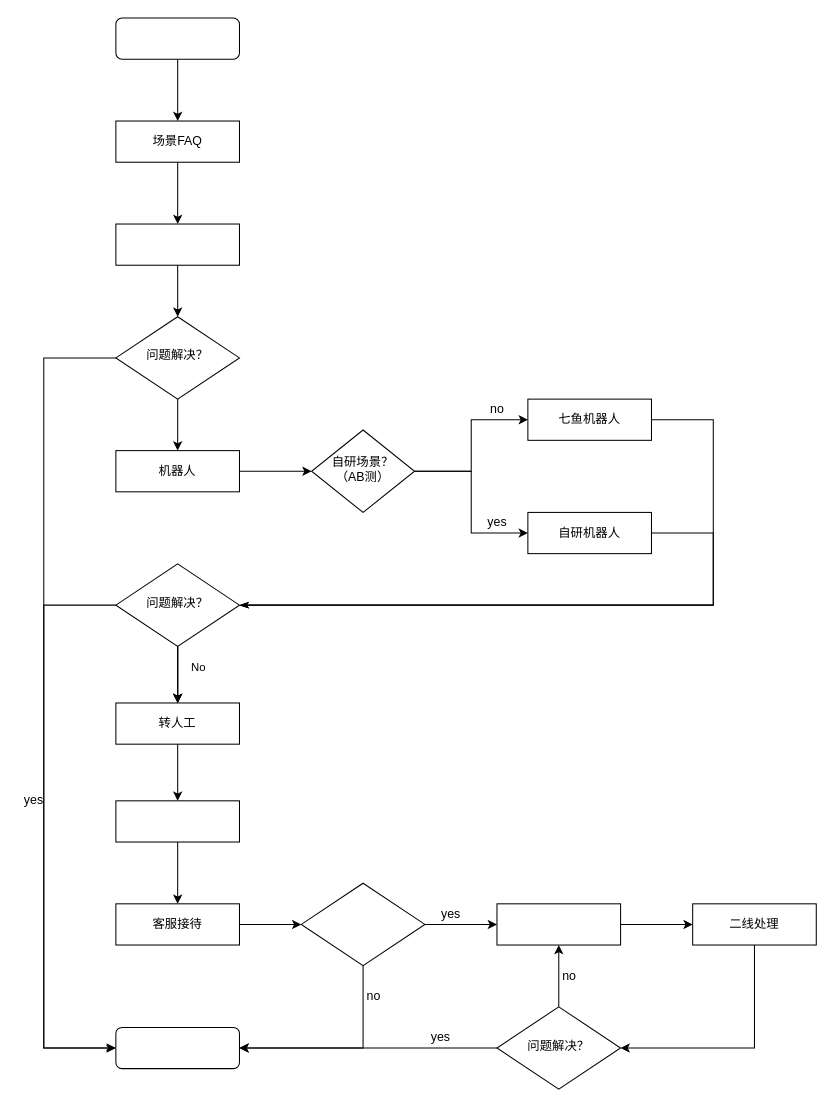
The diagram is 834 pixels wide and 1107 high, and some of its shapes have lost their labels. The centre of each missing label's shape, as x and y in pixels:
"一触即达" goes at [177,244].
"工单流转" goes at [558,924].
"技能组匹配" goes at [177,821].
"是否需要升级" goes at [362,924].
"用户进入" goes at [177,38].
"结束" goes at [177,1047].
